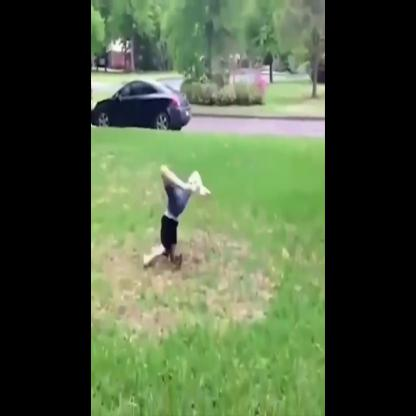Fall_Down: (141, 161, 214, 273)
